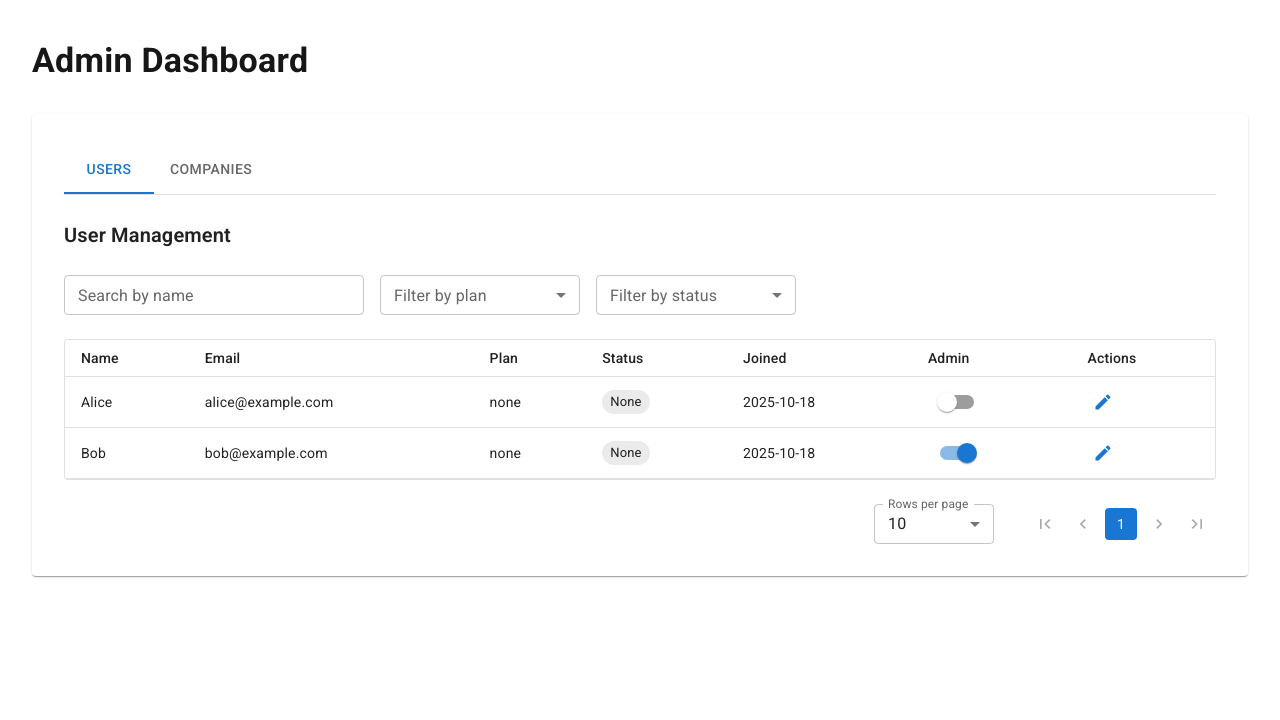
Test: AdminDashboard › opens edit modal when clicking Edit
# Find edit icon buttons by their title attribute
Click the button titled "Edit user" in the row of "alice@example.com".
click(1103, 402)  # box top-left (1088, 387), bottom-right (1118, 417)
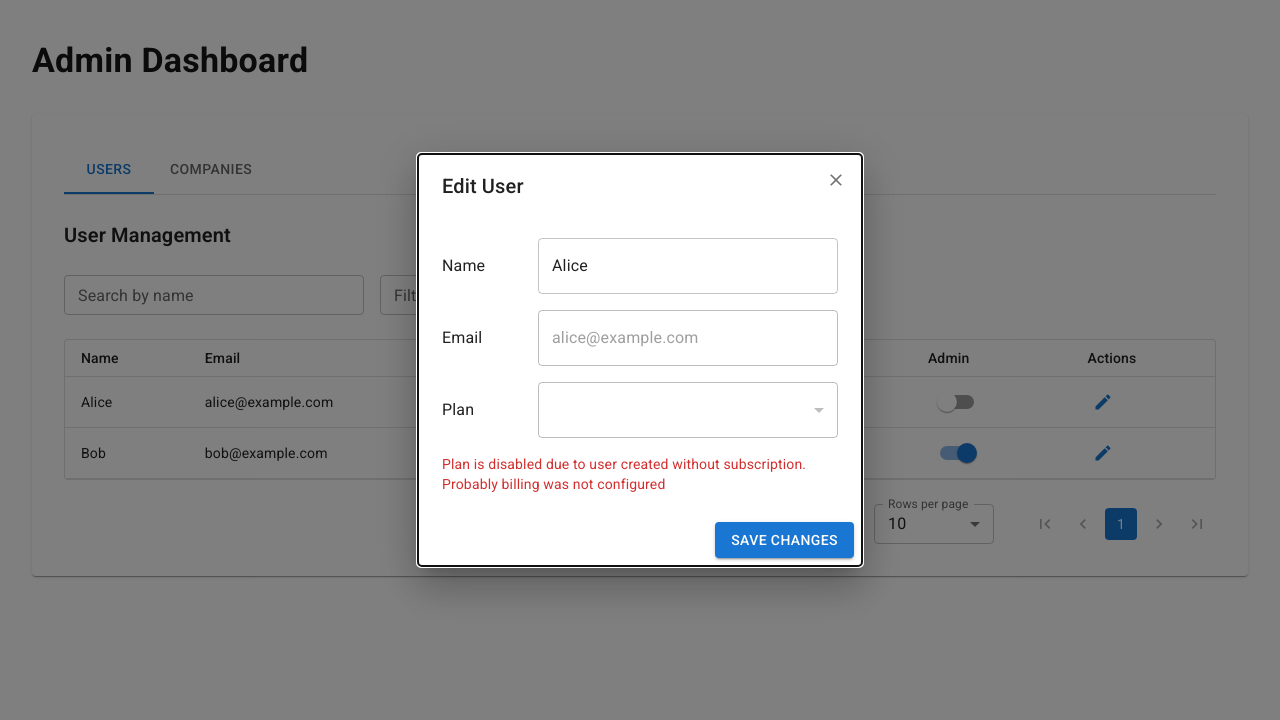
Check: the heading "Edit User" is shown, box top-left (442, 174), bottom-right (524, 198)
